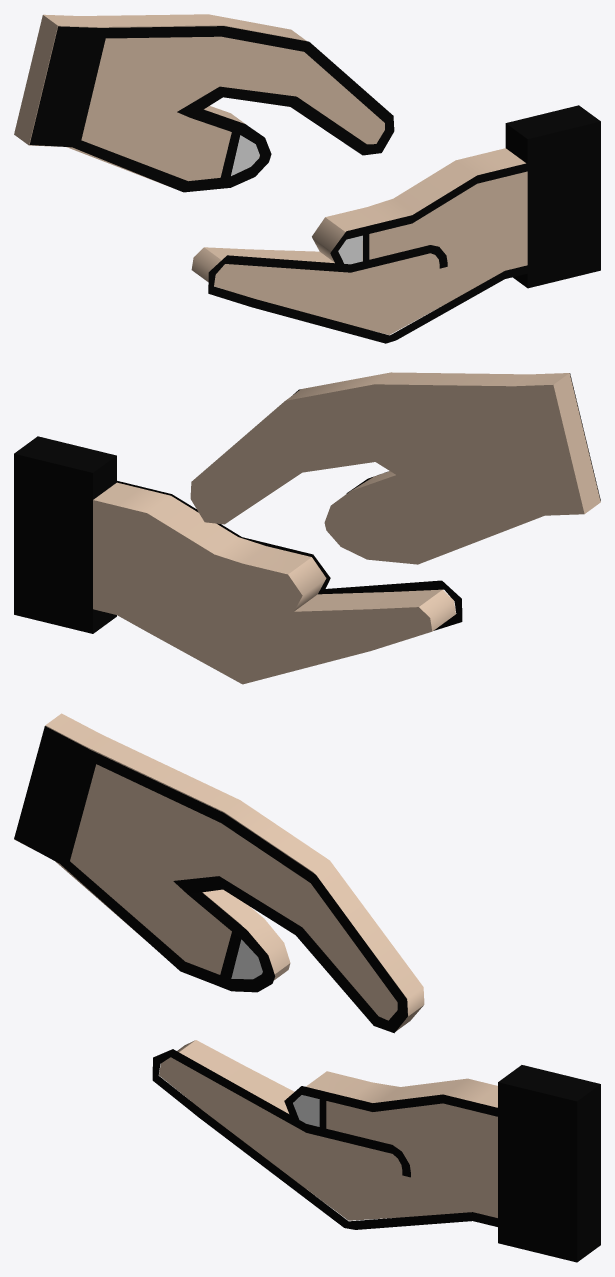
The model's file is Charity fbx new.fbx.
3 renders of one model, top to bottom at view 1: azimuth 30°, elevation 25°; view 2: azimuth 150°, elevation 25°; view 3: azimuth 330°, elevation 25°, orthographic. The views are drawn at different scales.
Visible parts, largest first — view 1: polySurface303; view 2: polySurface303; view 3: polySurface303.
Part boxes in pixels (x1,y1,x2,y2): polySurface303: [14, 14, 600, 343]; polySurface303: [14, 372, 600, 684]; polySurface303: [14, 713, 600, 1262].
Size of the model in its own units: 16.32 by 10.64 by 2.1.
